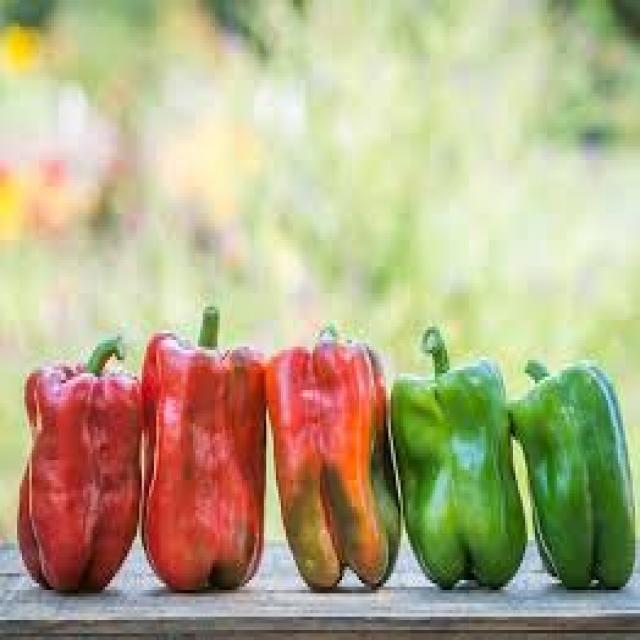Pepper: (262, 345, 398, 591), (140, 335, 267, 593), (390, 361, 530, 592), (507, 364, 639, 593), (19, 364, 147, 595)
